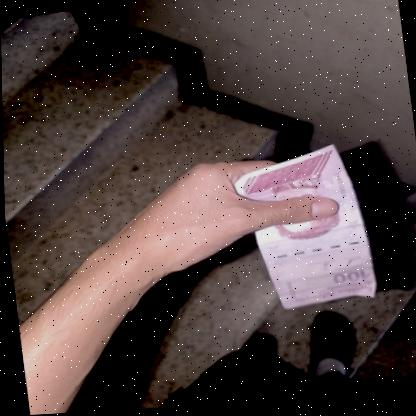one_hundred-front-vef: (228, 142, 376, 321)
